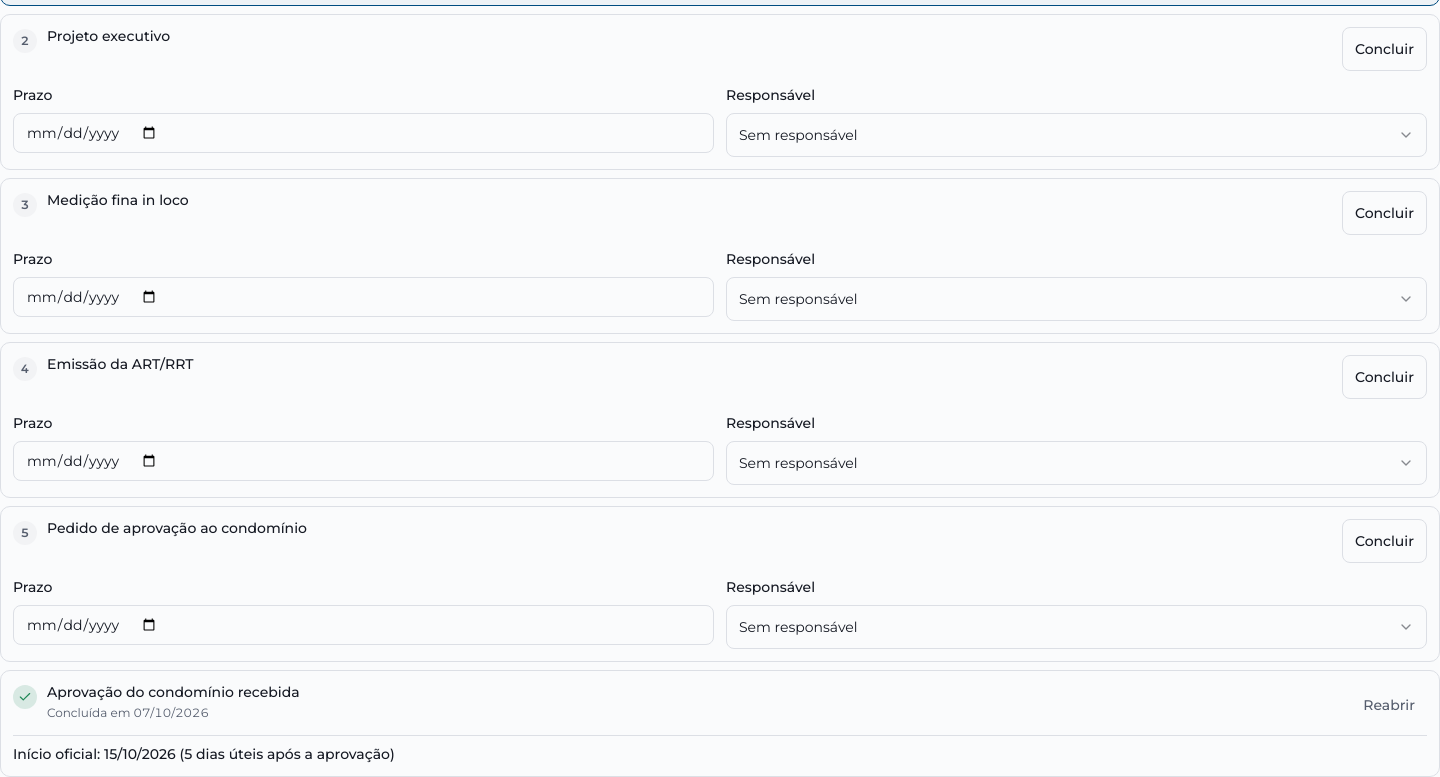
Scenario: Fase de projeto: concluir e reabrir › reabrir a aprovação do condomínio pede confirmação: apaga a data e o início oficial
This screenshot has width=1440, height=777.
Later steps or results of the test are not shown.
(page scrolled)
Click the button "Reabrir" at (1389, 705), box [1351, 683, 1427, 727]
(page scrolled)
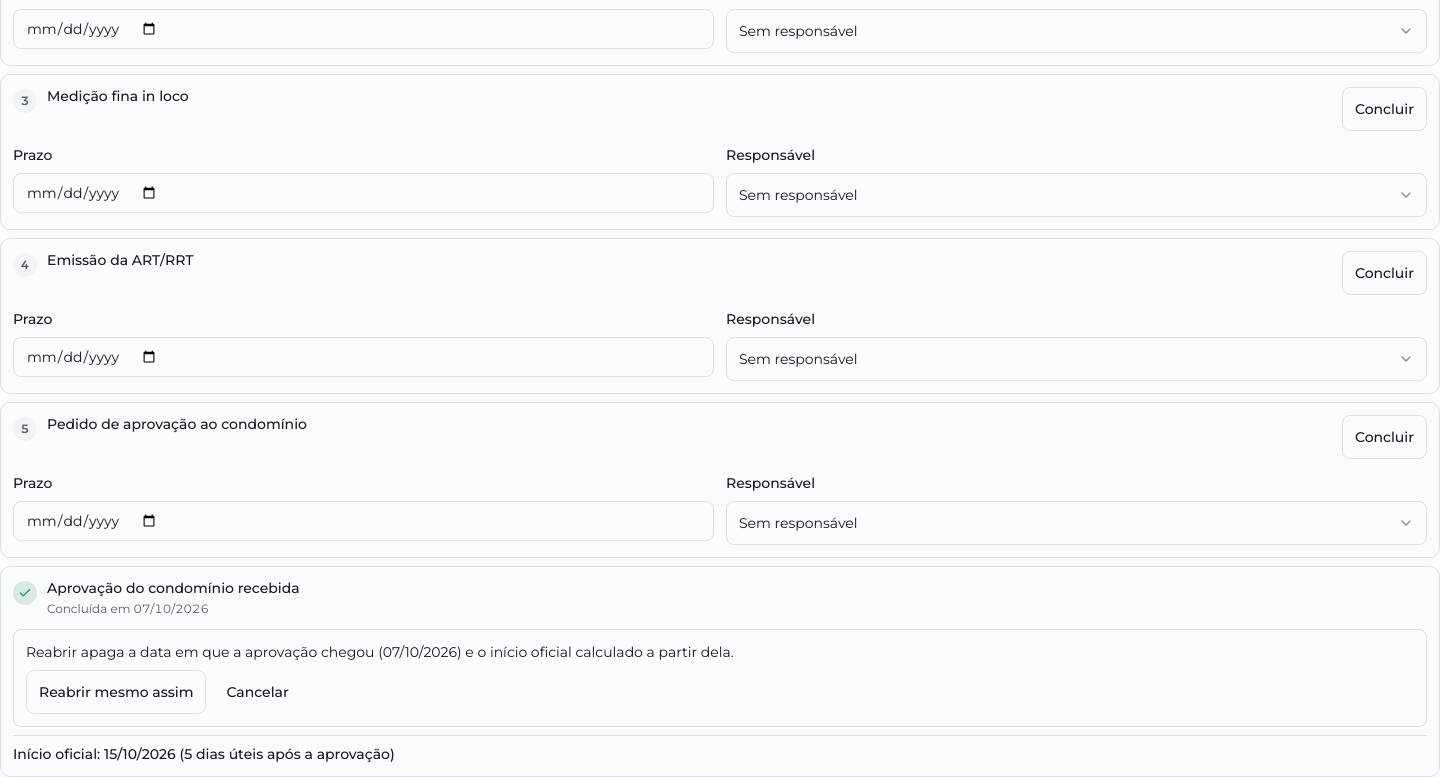
Click the button "Cancelar" at (258, 692), box [214, 670, 301, 714]
(page scrolled)
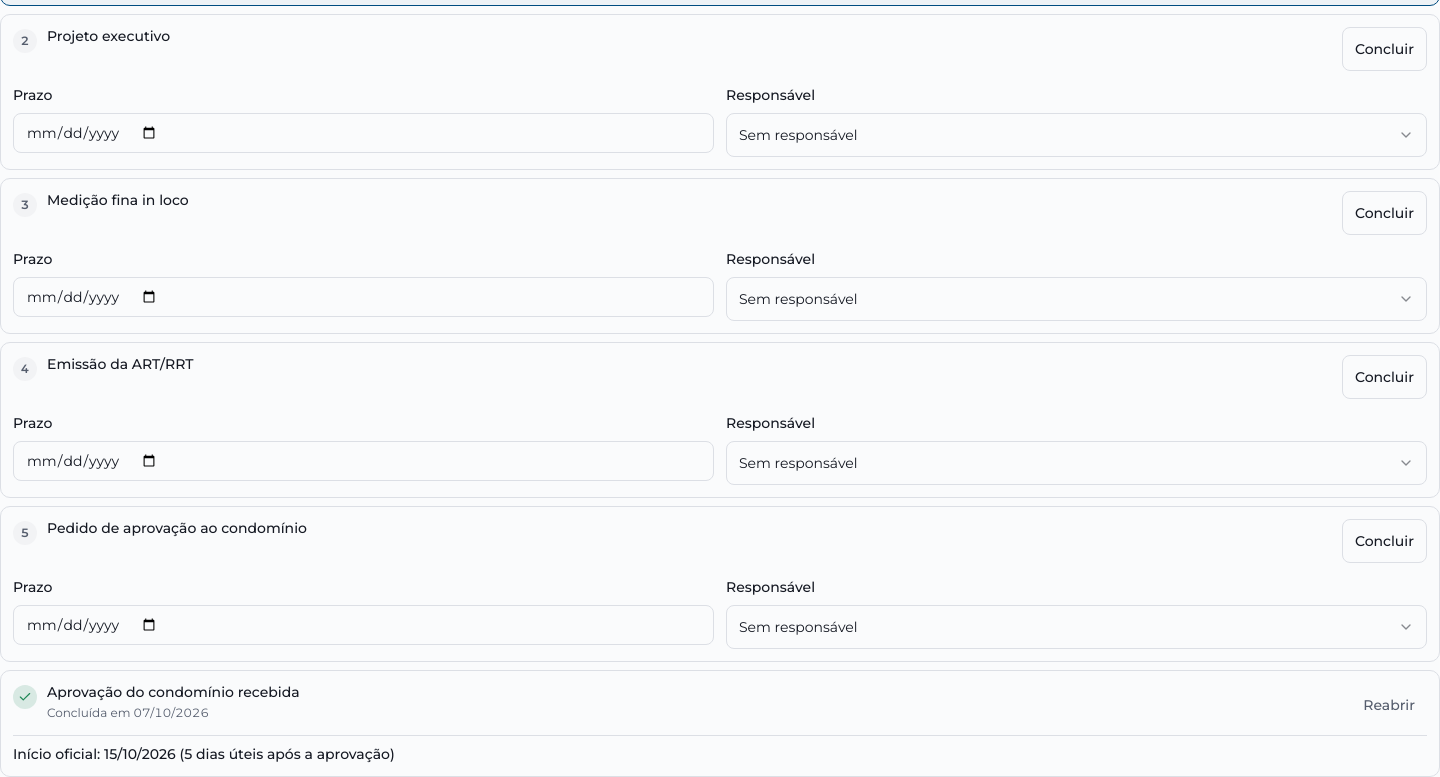
Expected: the text "Reabrir apaga" is gone
